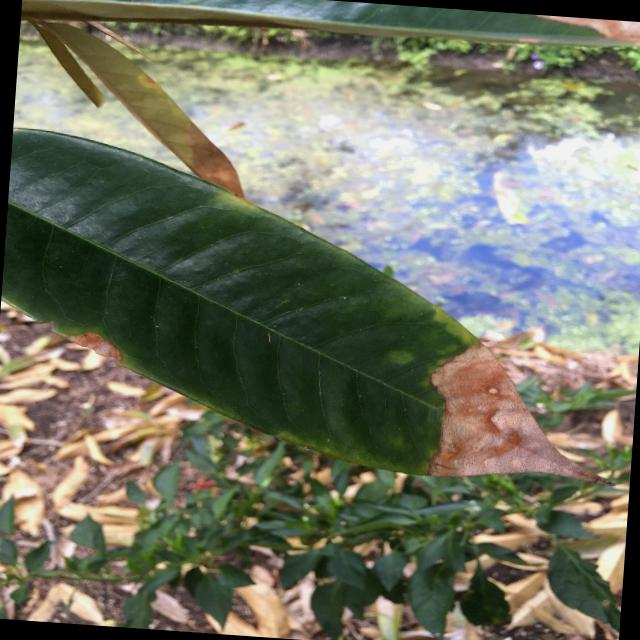Leaf Blight: (0, 121, 631, 498)
